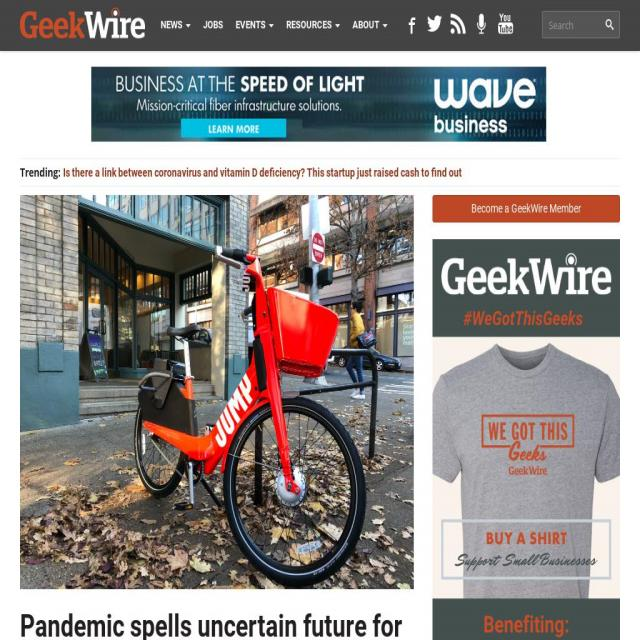button: (20, 195, 414, 589), (442, 520, 610, 579), (12, 5, 149, 46), (432, 195, 620, 223), (280, 0, 346, 50), (229, 0, 280, 50), (346, 0, 394, 50), (154, 0, 197, 50), (182, 120, 286, 138), (197, 0, 229, 50), (495, 4, 519, 46), (470, 3, 493, 46), (424, 4, 446, 47), (448, 4, 468, 45), (402, 4, 420, 46)
field: (542, 11, 620, 38)
